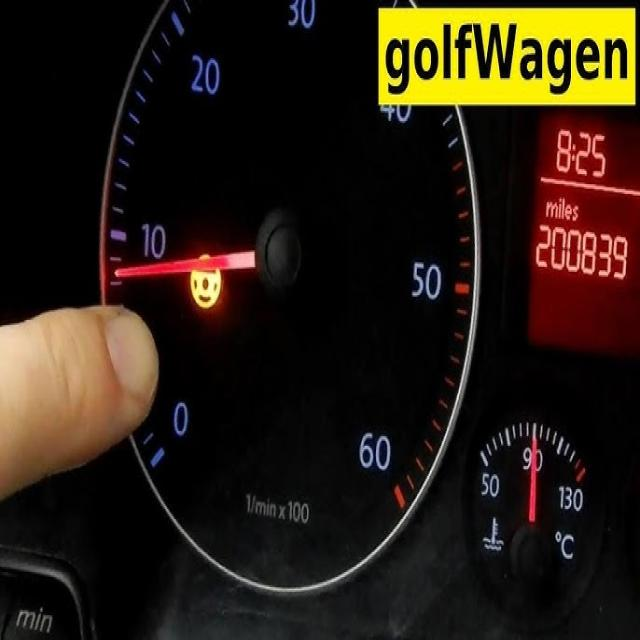kontrolka: (185, 250, 229, 314)
